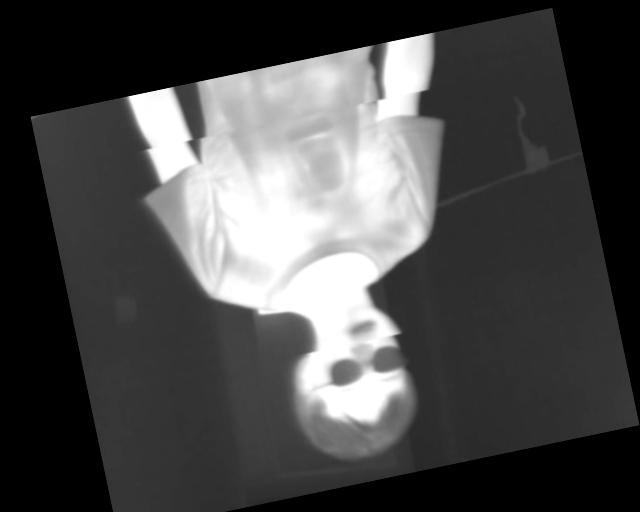face: (275, 294, 431, 473)
